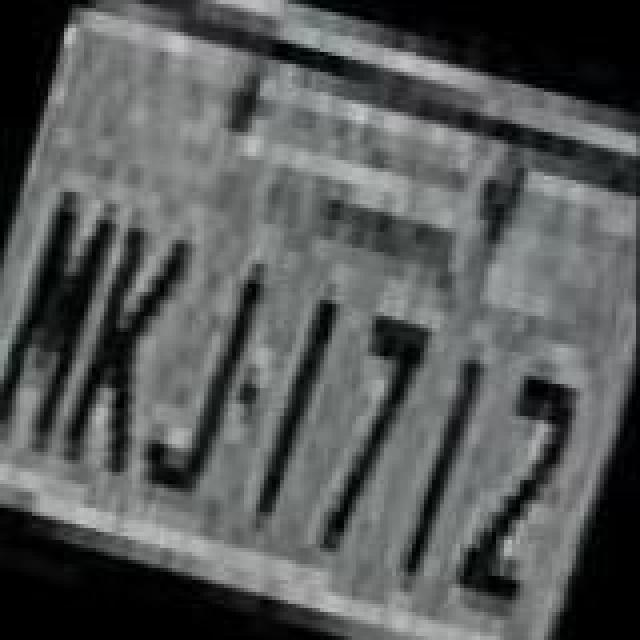1: (244, 278, 348, 538), (396, 344, 492, 588)
2: (448, 358, 592, 626)
7: (308, 300, 436, 564)
J: (136, 234, 276, 514)
K: (54, 210, 198, 486)
M: (0, 168, 128, 464)
